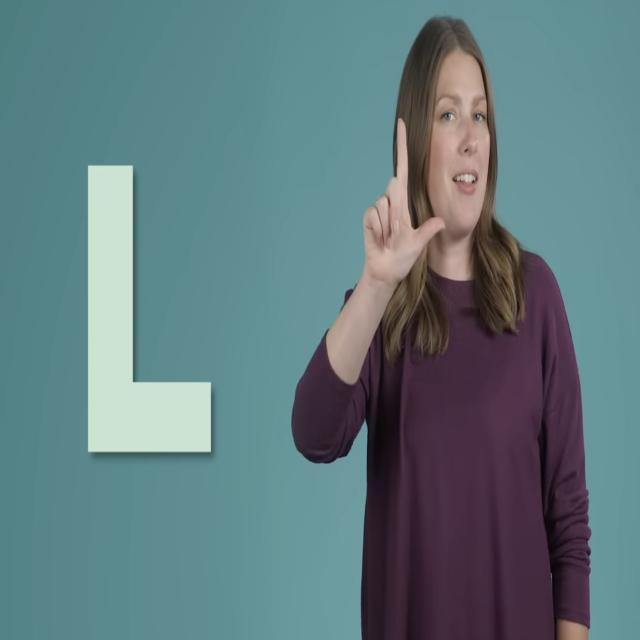L: (350, 112, 448, 290)
